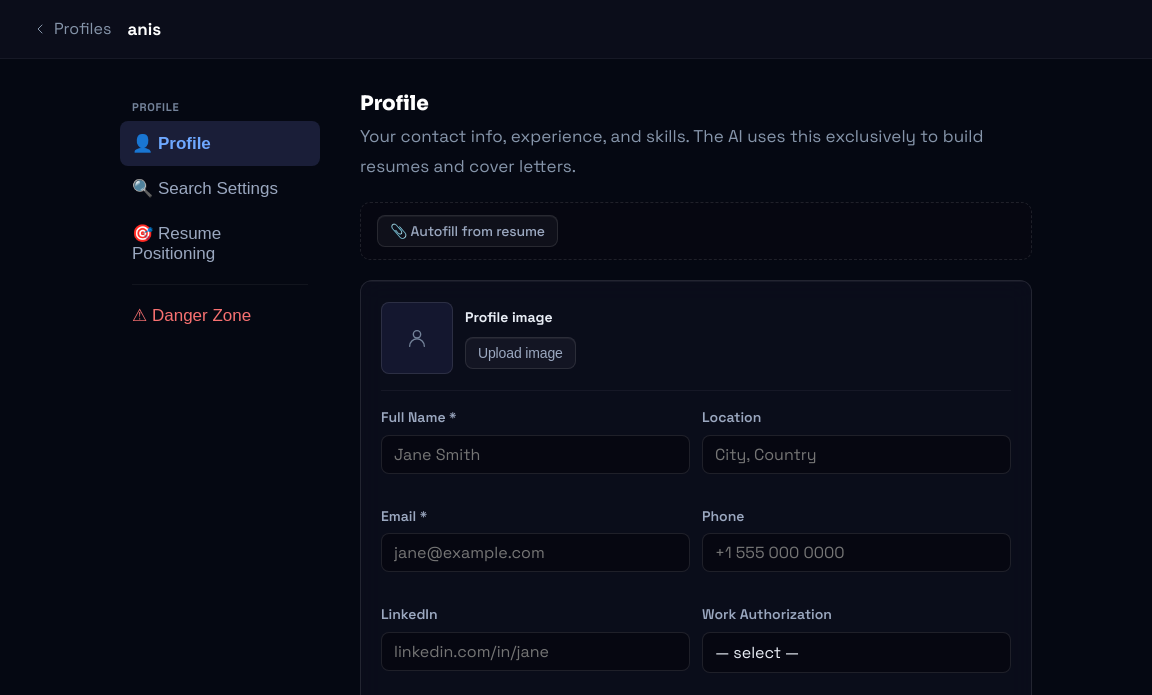
Test: Resume Positioning › loads a saved stance from config
Click the button "🎯 Resume Positioning". click: (220, 243)
box: [120,211,320,276]
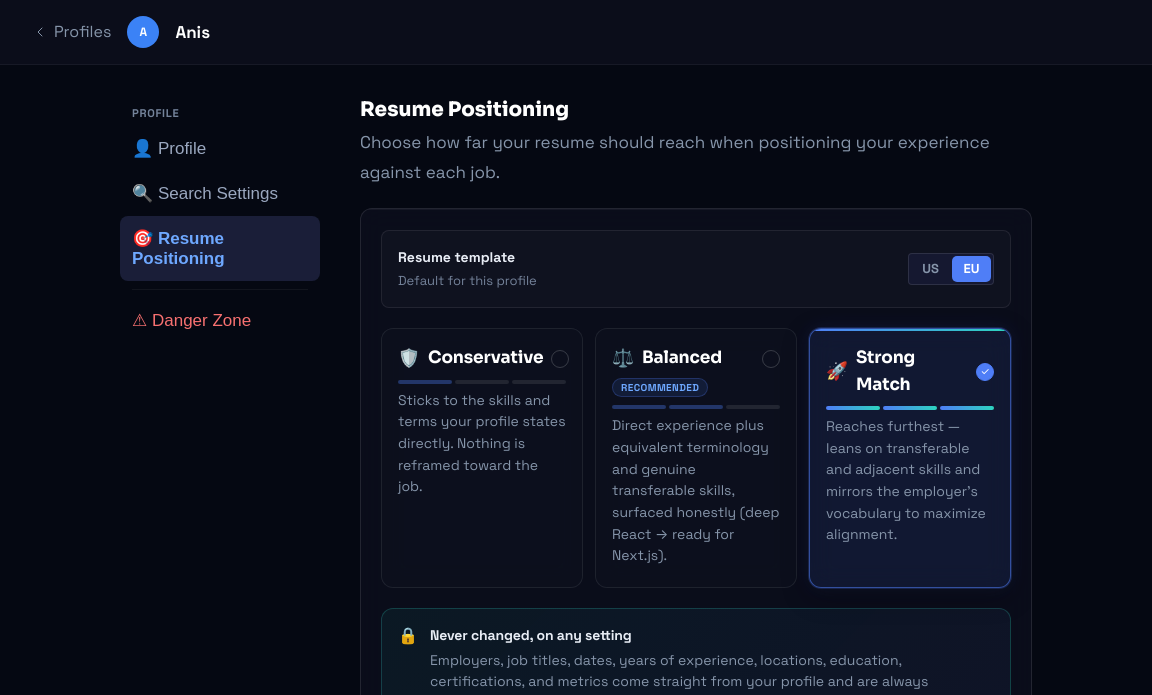
Check: the text "Strong Match" is shown, box [856,347,915,395]
Check: the radio button labelled "Strong Match" is checked, box [809,328,1011,588]
